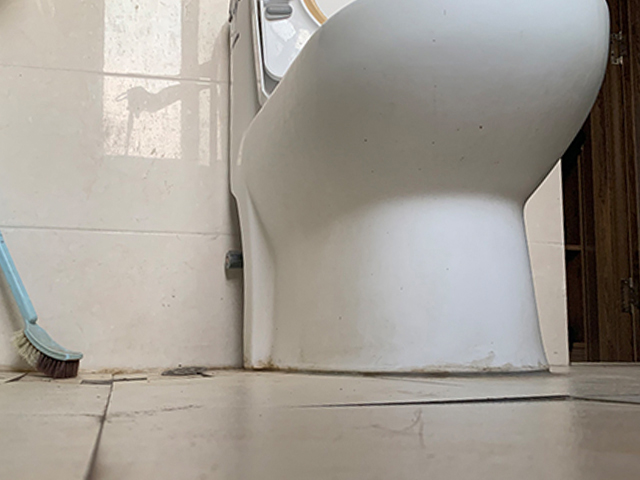closestool: (226, 1, 611, 376)
